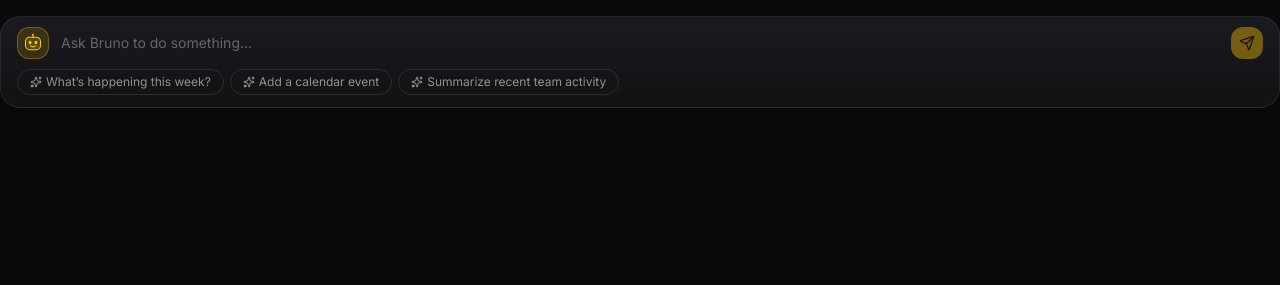
Test: BrunoBar › streams a reply inline and shows the confirm card for proposed actions
What coordinates should you click on to do the following:
click the button "Add a calendar event"
I would click on:
 (311, 82)
Its box is [230, 69, 392, 95].
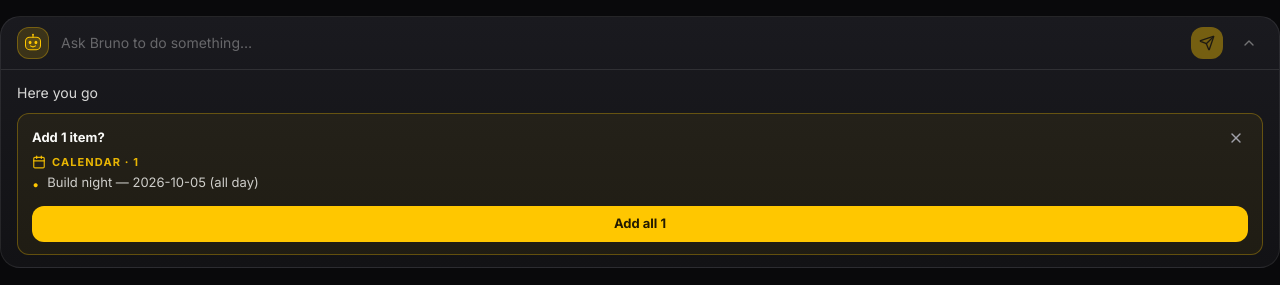
Result: the text "Build night — 2026-10-05 (all day)" is shown at [47, 174, 259, 194]
Result: the button "Add all 1" is shown at [32, 206, 1248, 242]
